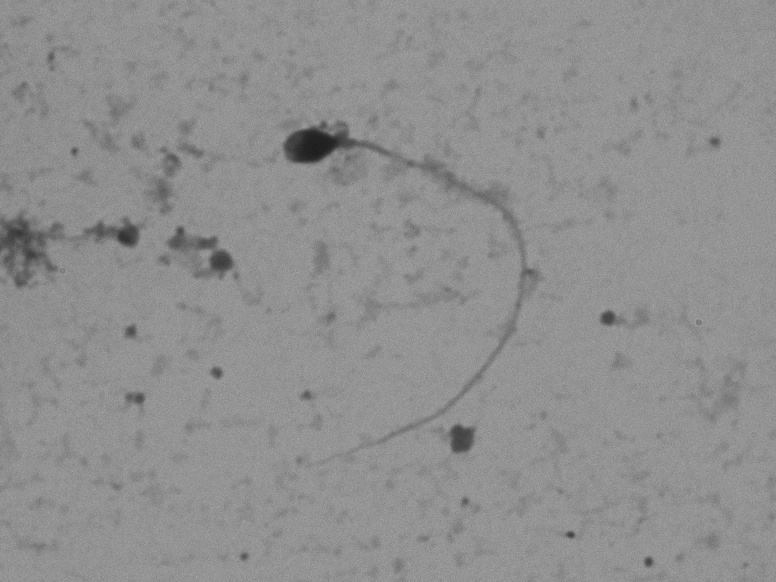Abnormal: (247, 91, 554, 492)
